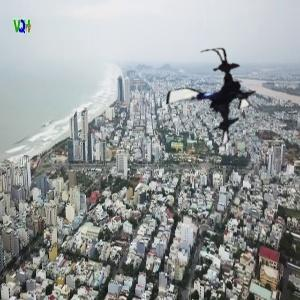drone: (159, 48, 265, 154)
